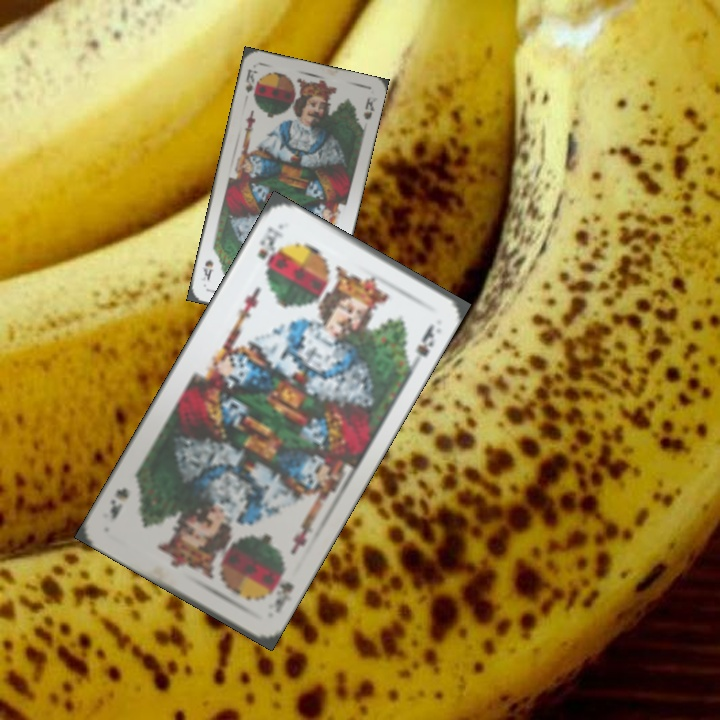SK: (264, 561, 297, 615), (253, 222, 287, 268), (241, 65, 261, 100)
